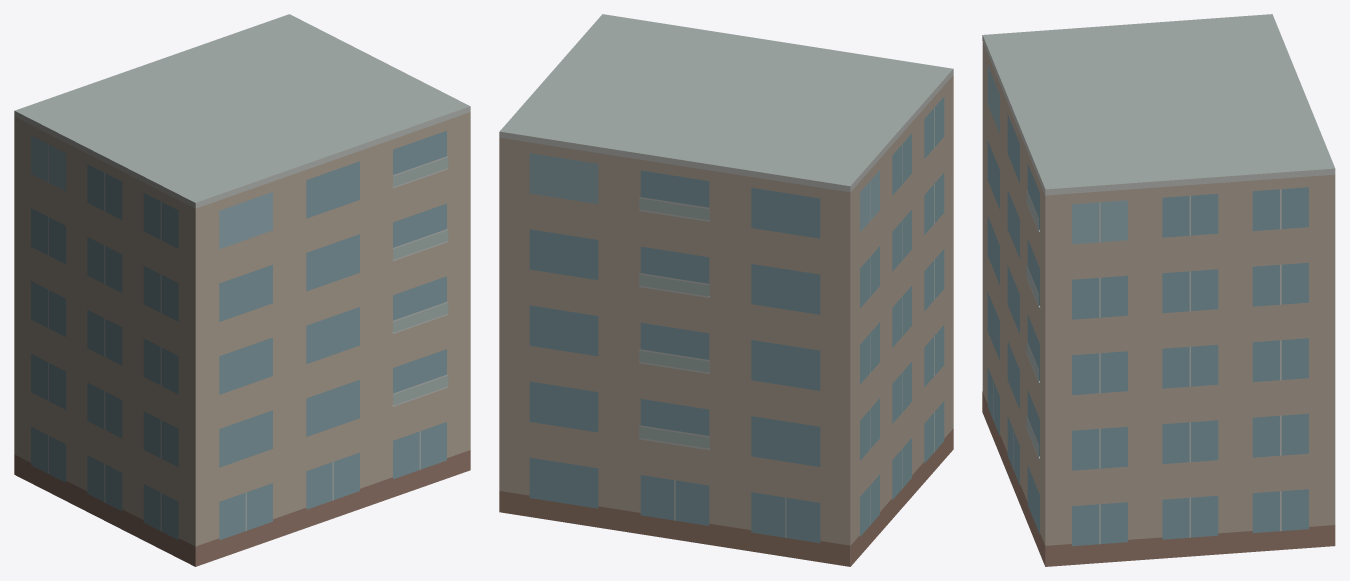
Rendered from survey-upis-32660694.glb.
3 renders of one model, left to right at view 1: azimuth 30°, elevation 25°; view 2: azimuth 150°, elevation 25°; view 3: azimuth 270°, elevation 25°, orthographic. The views are drawn at different scales.
Parts seen in each view (by area): view 1: survey-upis-32660694.tmp; view 2: survey-upis-32660694.tmp; view 3: survey-upis-32660694.tmp.
Boxes of the visible parts, x1,y1,x2,y2 form: survey-upis-32660694.tmp: [14, 14, 470, 566]; survey-upis-32660694.tmp: [499, 14, 953, 566]; survey-upis-32660694.tmp: [982, 14, 1335, 566].
Bounding box in the file's own units: 15.21 × 15.25 × 12.93.
